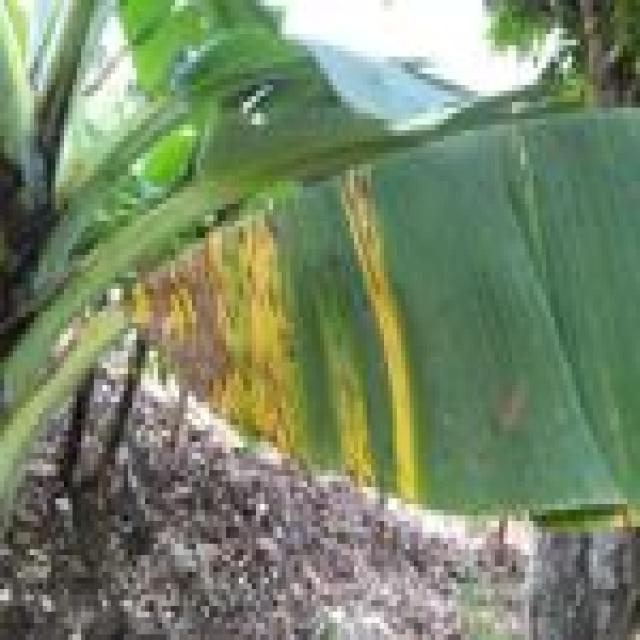Early_rust: (82, 145, 468, 508)
